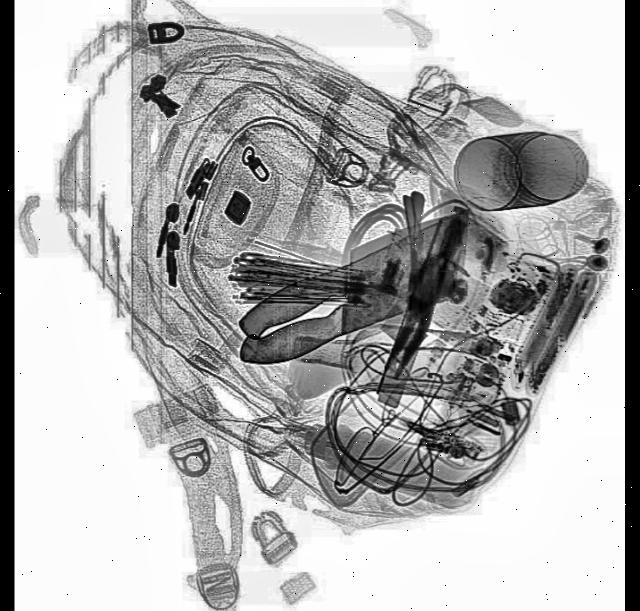Knife: (235, 208, 490, 386), (225, 209, 488, 376)
